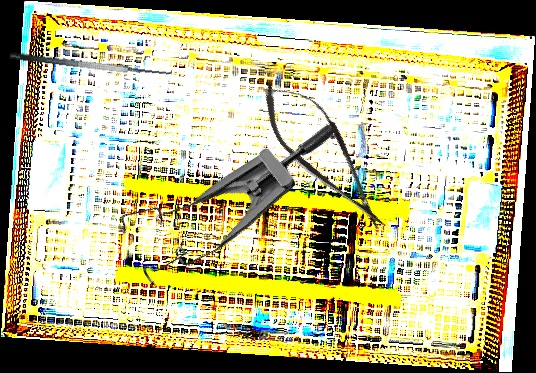Micro Scissor: (246, 66, 404, 244)
Spatula Surgical: (9, 37, 174, 84)
Speculum: (100, 59, 339, 316)
